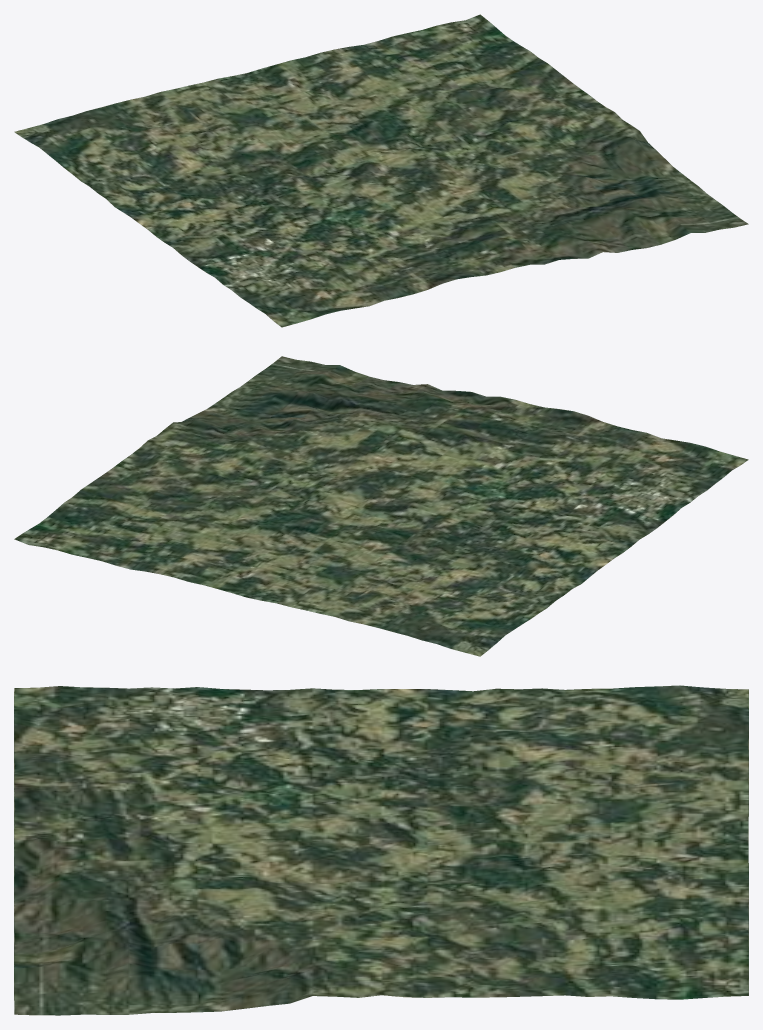
3 views of the same model, one above another, from view 1: azimuth 30°, elevation 25°; view 2: azimuth 150°, elevation 25°; view 3: azimuth 270°, elevation 25° (orthographic). The views are drawn at different scales.
Bounding box in the file's own units: 15672 × 538 × 15595.
1 material, 1 textured.
